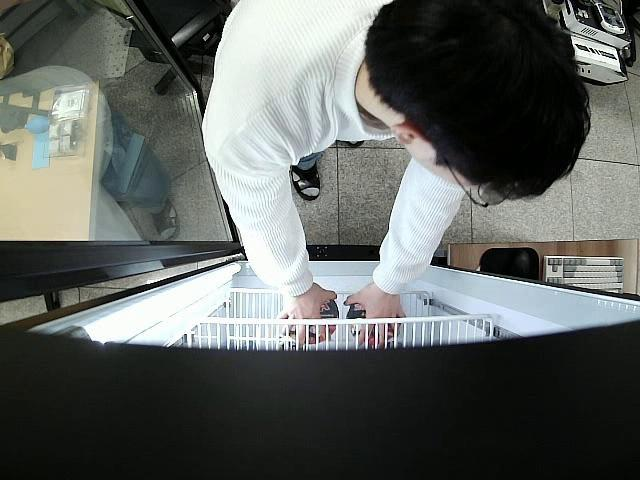07_buldak_L: (281, 300, 338, 343), (348, 303, 400, 346)
